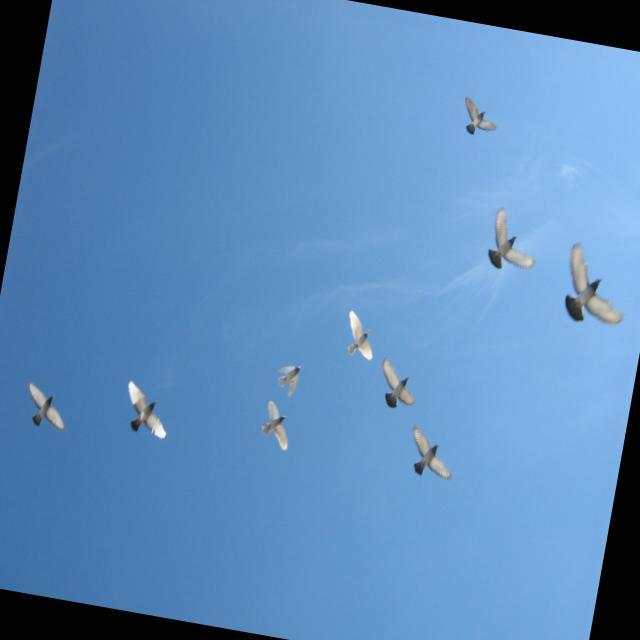bird: (553, 234, 637, 337), (478, 202, 545, 280), (117, 378, 177, 447), (402, 422, 463, 484), (18, 376, 77, 440), (373, 355, 424, 415), (453, 92, 503, 145), (339, 308, 382, 364), (256, 398, 297, 454), (271, 359, 304, 399)
